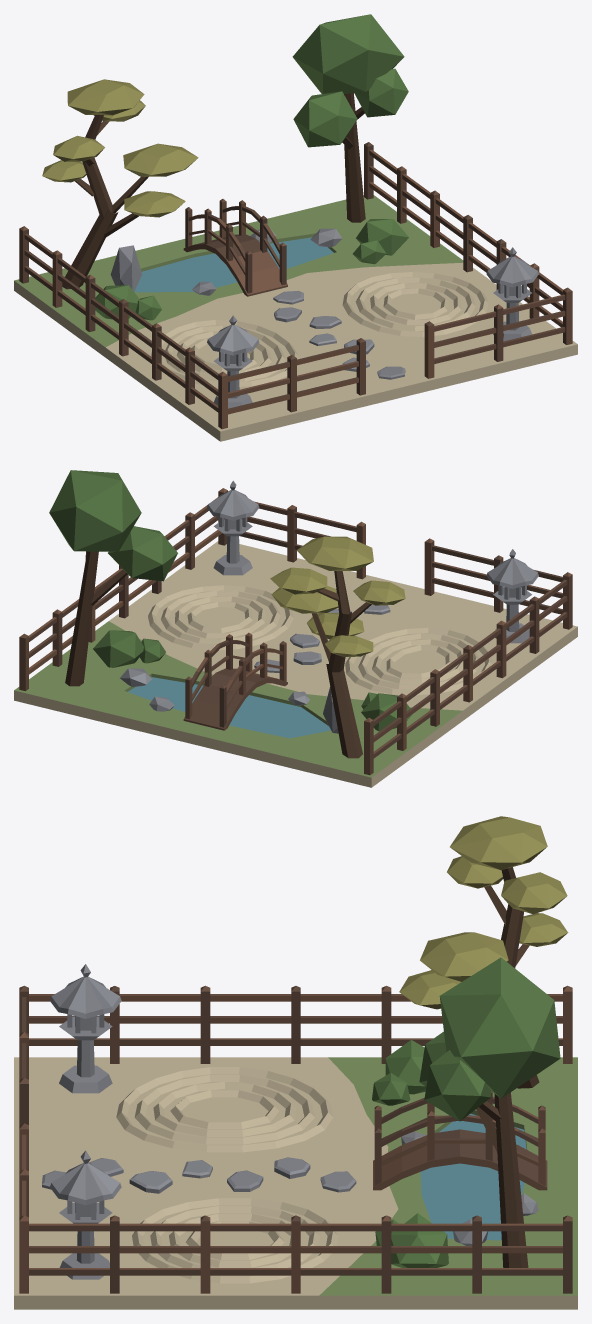
Rendered from zen-sand-garden-79a828.glb.
The picture shows the model from 3 angles, top to bottom: view 1: azimuth 30°, elevation 25°; view 2: azimuth 150°, elevation 25°; view 3: azimuth 270°, elevation 25°; orthographic projection. The views are drawn at different scales.
Visible parts, largest first — view 1: garden; view 2: garden; view 3: garden.
Boxes of the visible parts, box(x1,y1,x2,y2) form: garden: box(14, 14, 577, 441); garden: box(14, 470, 577, 787); garden: box(14, 816, 577, 1309).
Size of the model in its own units: 4.4 by 2.57 by 4.4.
